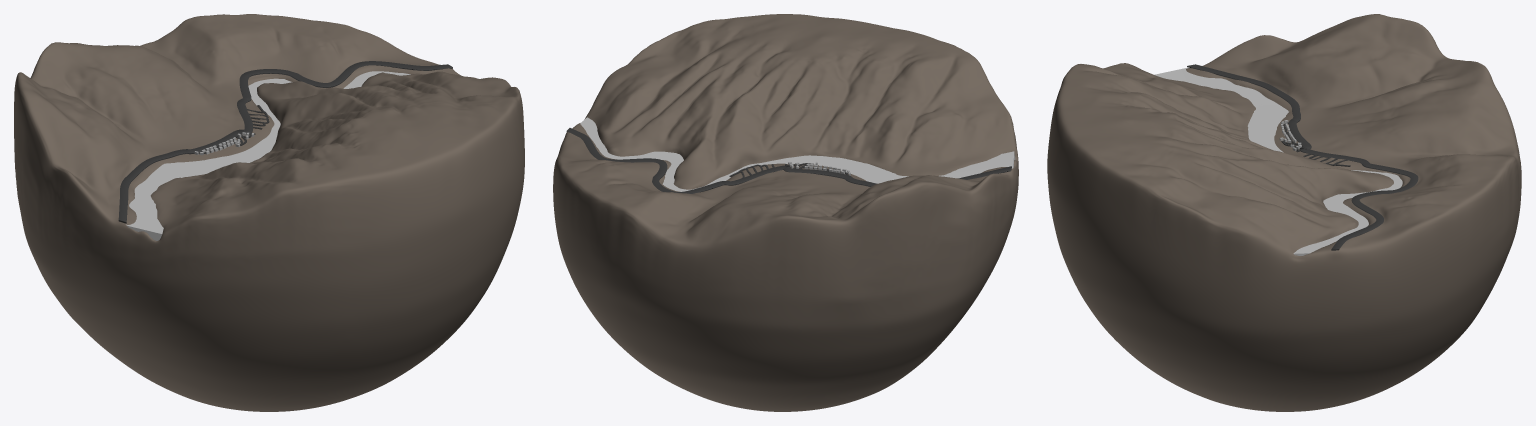
Rendered from Klickitat.fbx.
3 renders of one model, left to right at view 1: azimuth 30°, elevation 25°; view 2: azimuth 150°, elevation 25°; view 3: azimuth 270°, elevation 25°, orthographic. The views are drawn at different scales.
Visible parts, largest first — view 1: KlickitatSphere, Water, MainRoadSweep; view 2: KlickitatSphere, Water, MainRoadSweep; view 3: KlickitatSphere, Water, MainRoadSweep.
Part boxes in pixels (x1,y1,x2,y2): KlickitatSphere: (14, 14, 524, 411); Water: (126, 71, 410, 240); MainRoadSweep: (118, 61, 452, 223); KlickitatSphere: (553, 14, 1018, 411); Water: (580, 117, 1015, 191); MainRoadSweep: (566, 128, 1011, 193); KlickitatSphere: (1047, 14, 1521, 411); Water: (1154, 68, 1402, 255); MainRoadSweep: (1187, 64, 1418, 250).
Bounding box in the file's own units: 120 × 82.11 × 122.
